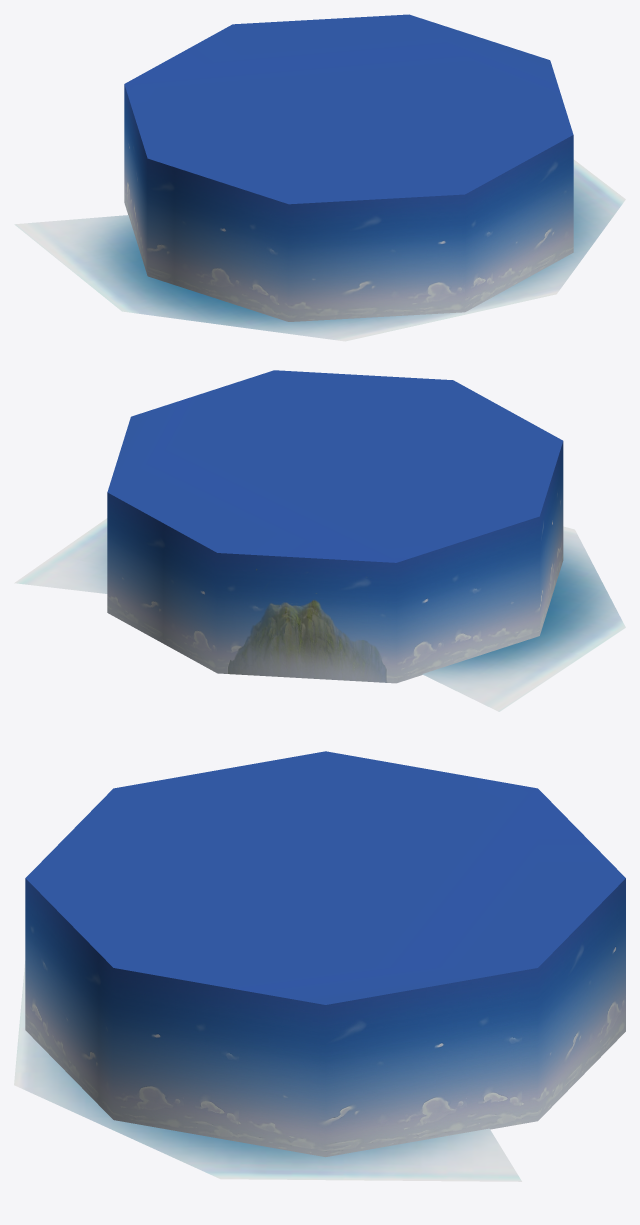
The model's file is magakhan_beach.glb.
The picture shows the model from 3 angles, top to bottom: view 1: azimuth 30°, elevation 25°; view 2: azimuth 150°, elevation 25°; view 3: azimuth 270°, elevation 25°; orthographic projection. The views are drawn at different scales.
Visible parts, largest first — view 1: beachbackground, beachwaterground; view 2: beachbackground, beachwaterground; view 3: beachbackground, beachwaterground.
Part boxes in pixels (x1=…): beachbackground: x1=124, y1=14, x2=573, y2=321; beachwaterground: x1=14, y1=159, x2=625, y2=341; beachbackground: x1=107, y1=370, x2=563, y2=683; beachwaterground: x1=14, y1=518, x2=625, y2=711; beachbackground: x1=25, y1=751, x2=625, y2=1157; beachwaterground: x1=14, y1=961, x2=521, y2=1181.
Size of the model in its own units: 893 by 414 by 738.
24 materials, 23 textured.
